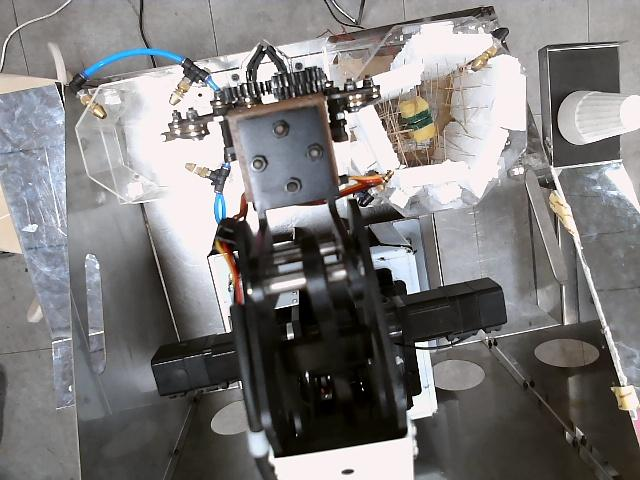cup: (558, 91, 639, 144)
